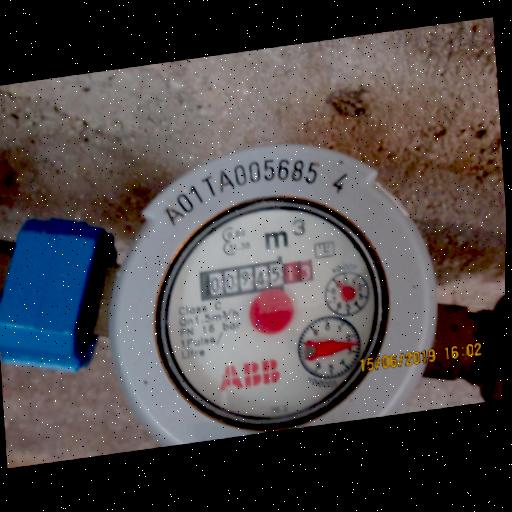0: (223, 268, 240, 294), (209, 270, 225, 296)
1: (284, 262, 299, 284)
3: (299, 259, 314, 282)
4: (253, 264, 270, 290)
5: (268, 263, 285, 288)
9: (238, 266, 255, 292)
border_water_meter_number: (198, 254, 319, 302)
